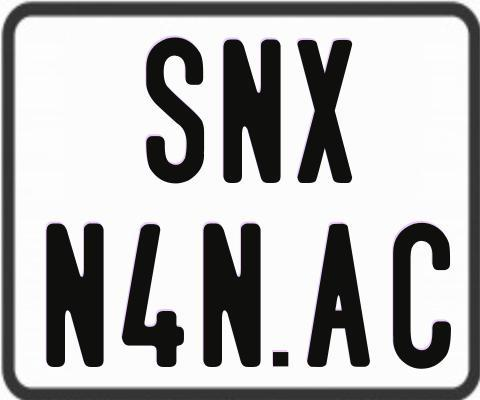4: (121, 221, 184, 368)
A: (307, 223, 374, 369)
C: (391, 222, 452, 374)
N: (201, 220, 264, 368), (44, 220, 104, 365), (222, 39, 280, 183)
S: (145, 36, 205, 185)
X: (294, 37, 354, 184)
